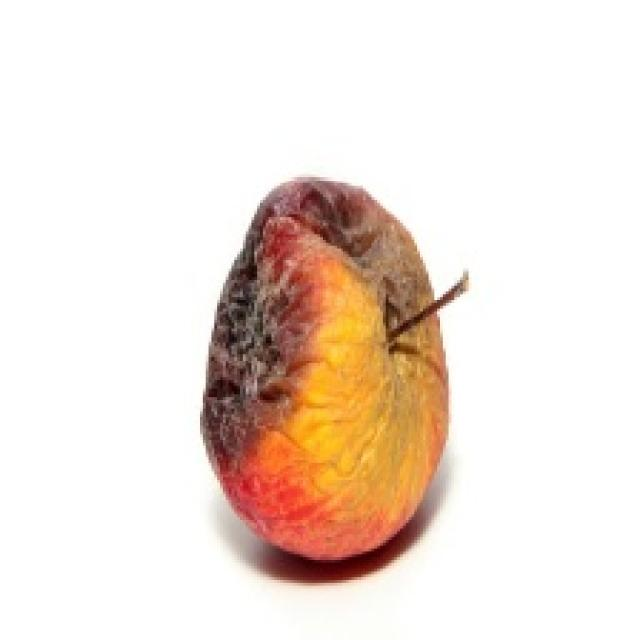rotten_apple: (204, 181, 448, 555)
